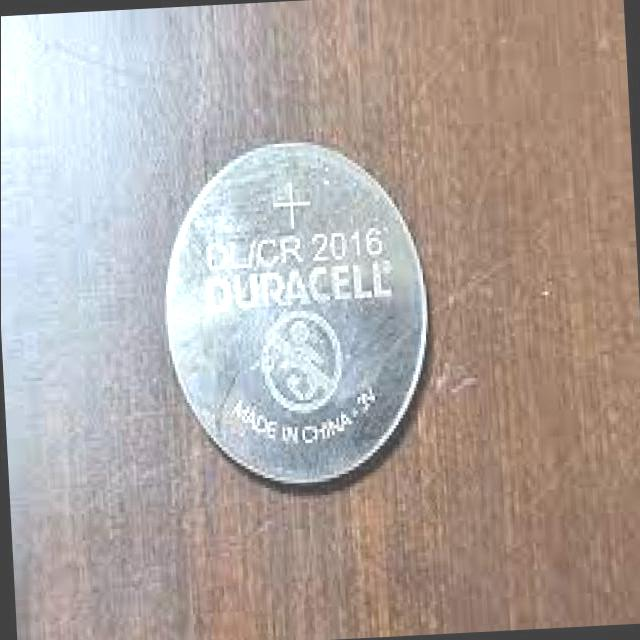COIN: (154, 112, 448, 502)
